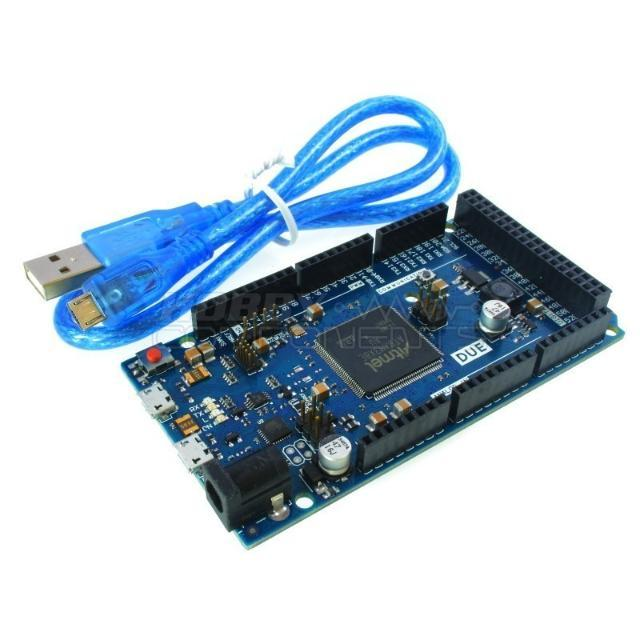Arduino-Due: (123, 191, 615, 545)
